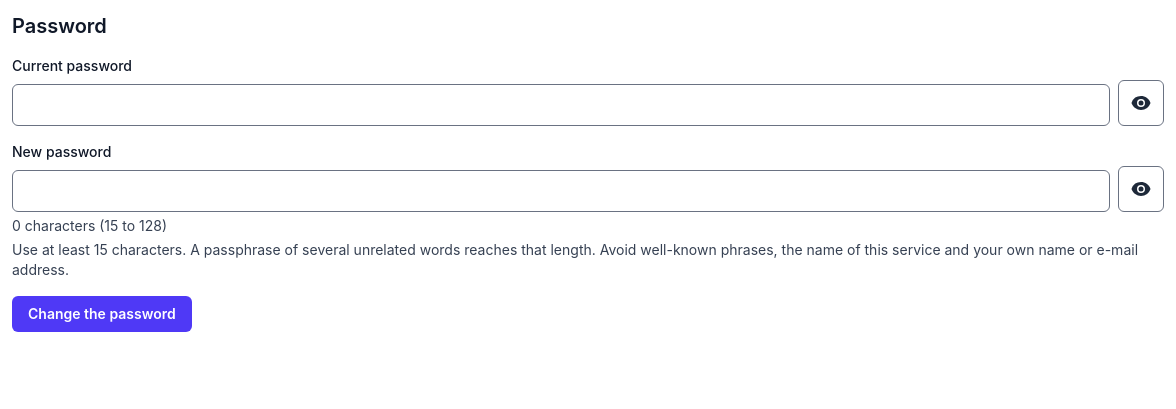
a 422 validation_failed on the current password › required shows its message at the current-password field
This screenshot has width=1176, height=409.
Type "a wrong passphrase" into the password field labelled "Current password" at x=561, y=105, box top-left (12, 84), bottom-right (1110, 126)
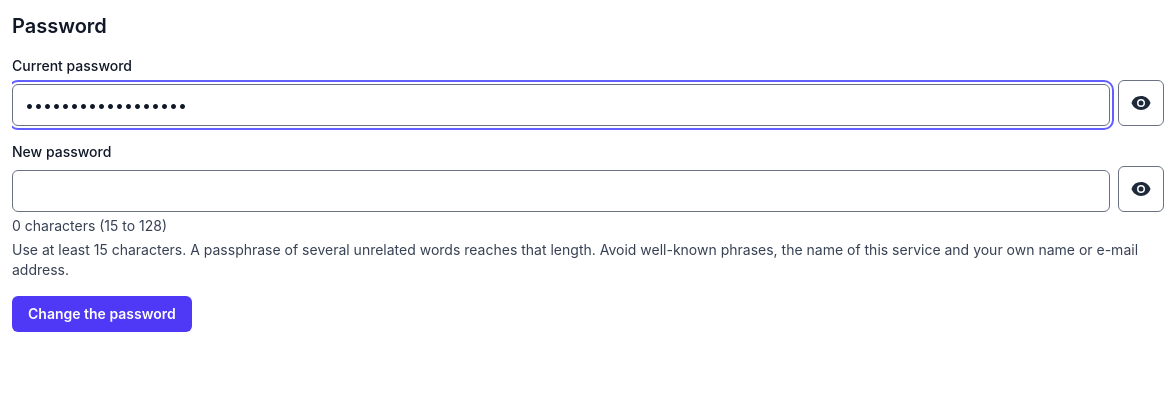
Type "a long enough passphrase" into the password field labelled "New password" at x=561, y=191, box top-left (12, 170), bottom-right (1110, 212)
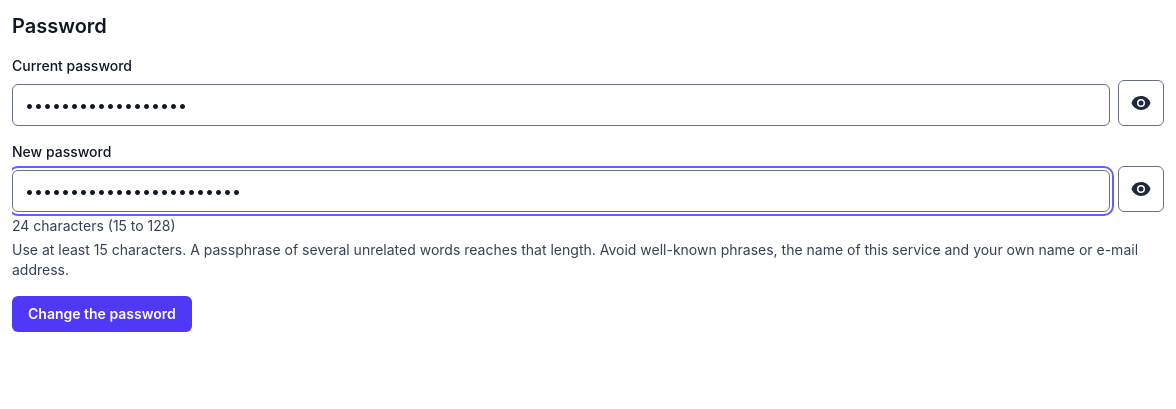
Click the button "Change the password" at x=102, y=314, box top-left (12, 296), bottom-right (192, 332)
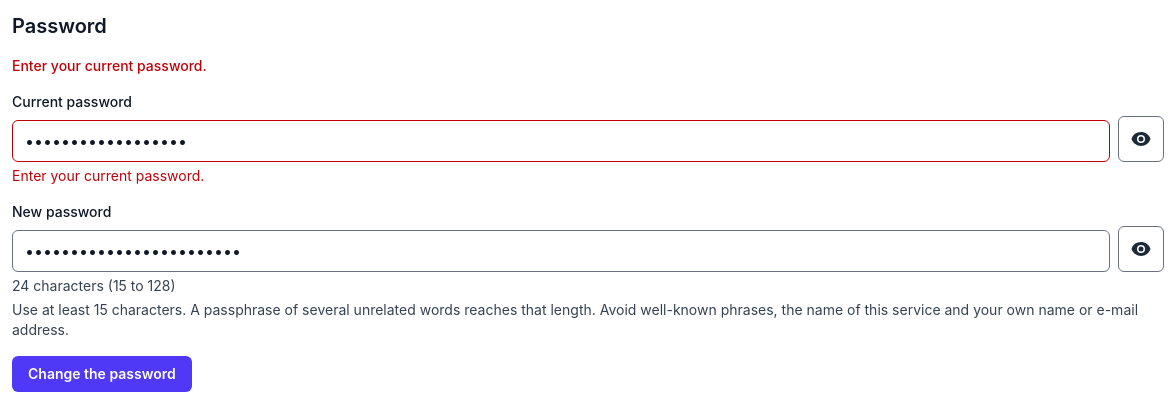
Expected: the text "Enter your current password." is not shown
Result: the message reads "Enter your current password." at top-left (12, 57), bottom-right (207, 74)
